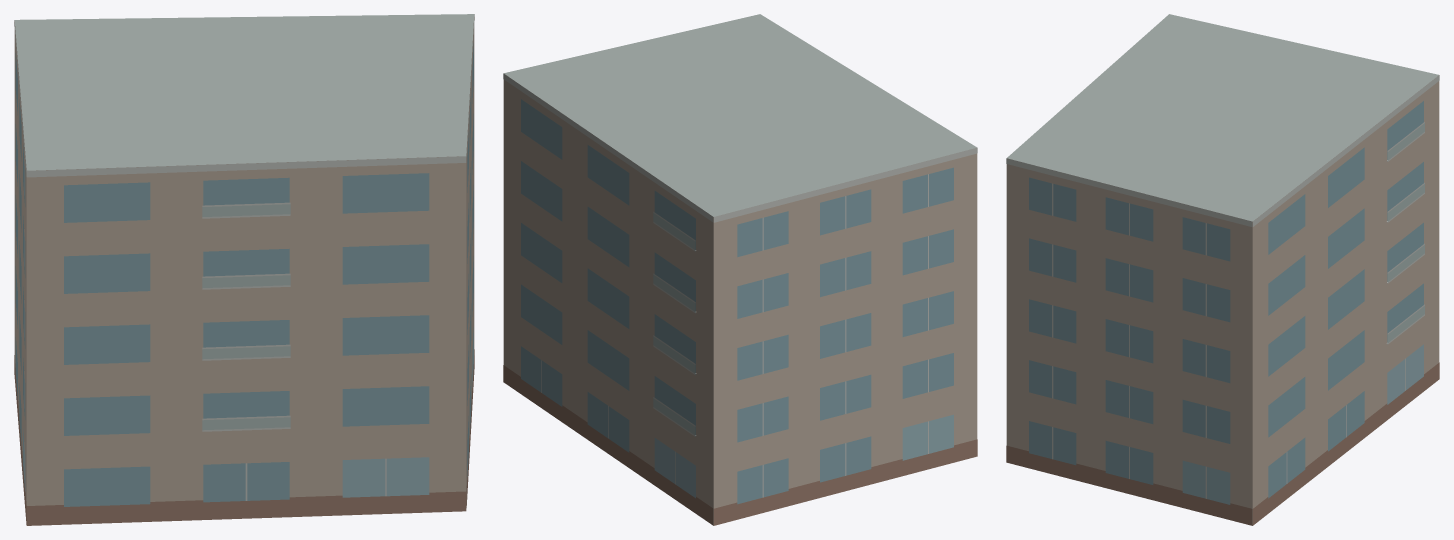
File: survey-upis-33021995.glb
3 renders of one model, left to right at view 1: azimuth 30°, elevation 25°; view 2: azimuth 150°, elevation 25°; view 3: azimuth 270°, elevation 25°, orthographic. The views are drawn at different scales.
Visible parts, largest first — view 1: survey-upis-33021995.tmp; view 2: survey-upis-33021995.tmp; view 3: survey-upis-33021995.tmp.
Part boxes in pixels (x1=…): survey-upis-33021995.tmp: x1=14, y1=14, x2=474, y2=525; survey-upis-33021995.tmp: x1=503, y1=14, x2=977, y2=525; survey-upis-33021995.tmp: x1=1006, y1=14, x2=1439, y2=525.
Size of the model in its own units: 18.88 by 12.9 by 16.64.
